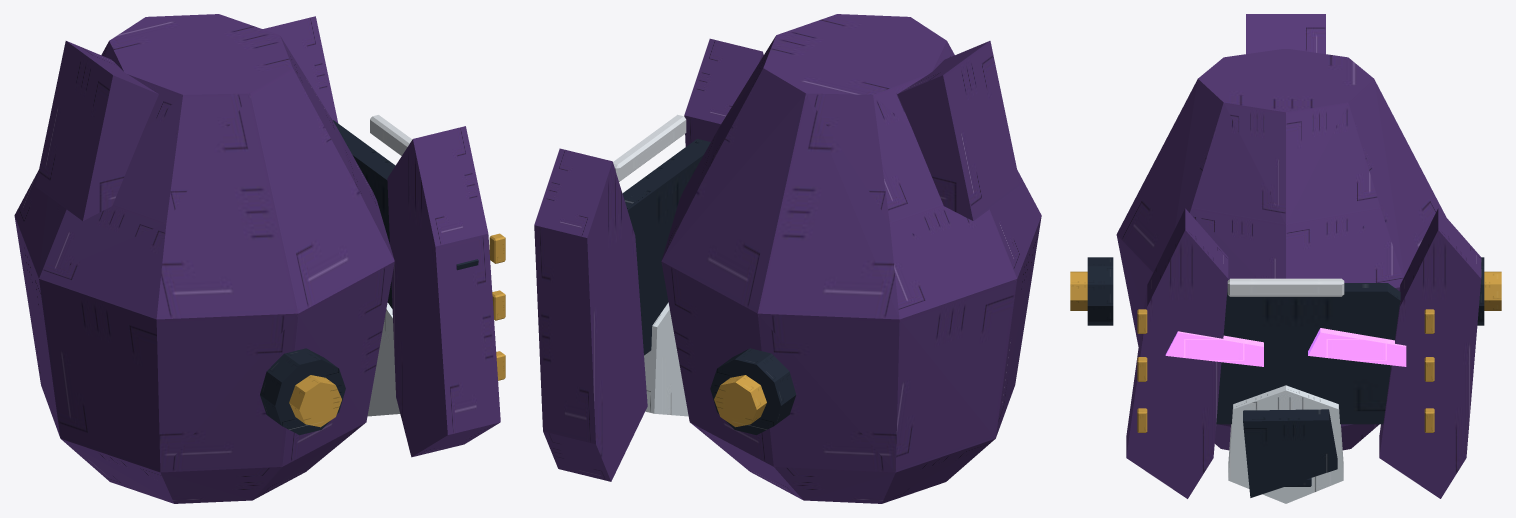
File: hood.glb
3 views of the same model, side by side, from view 1: azimuth 30°, elevation 25°; view 2: azimuth 150°, elevation 25°; view 3: azimuth 270°, elevation 25° (orthographic). The views are drawn at different scales.
Parts seen in each view (by area): view 1: head; view 2: head; view 3: head.
Boxes of the visible parts, left/top/right/bottom form: head: left=14, top=14, right=505, bottom=503; head: left=534, top=14, right=1041, bottom=503; head: left=1070, top=14, right=1501, bottom=503.
Size of the model in its own units: 0.3125 by 0.325 by 0.351.
6 materials, 6 textured.
